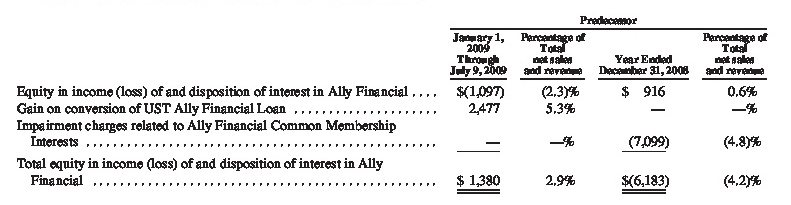table: (0, 0, 791, 205)
